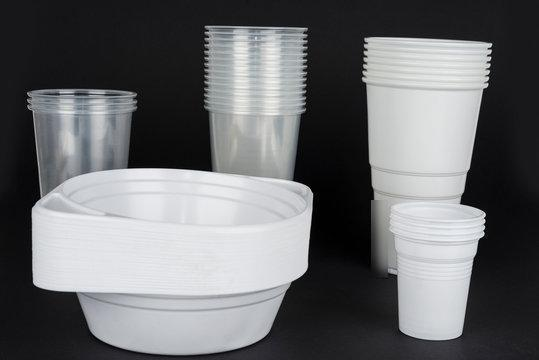cup-disposable: (360, 32, 495, 201), (201, 20, 311, 184), (389, 199, 487, 344), (25, 83, 140, 194)
